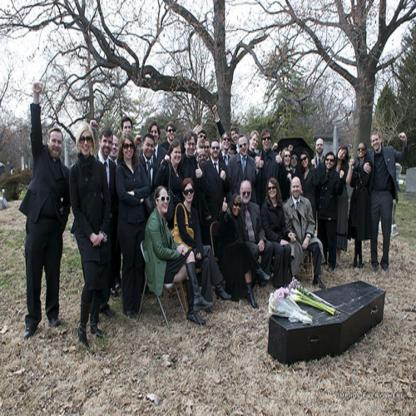face: (50, 132, 63, 156), (81, 133, 93, 155), (159, 191, 170, 214), (101, 136, 113, 157), (145, 139, 156, 158), (124, 140, 134, 159), (242, 184, 252, 203), (110, 138, 119, 158), (173, 146, 183, 164), (187, 137, 196, 156), (185, 184, 195, 201), (292, 181, 302, 198), (240, 138, 249, 156), (150, 127, 159, 144), (124, 124, 133, 140), (233, 198, 242, 214), (263, 135, 272, 150), (269, 182, 277, 198), (372, 136, 381, 150), (168, 127, 176, 141), (224, 136, 232, 150), (251, 136, 259, 150), (212, 142, 219, 157), (284, 153, 292, 166), (326, 156, 334, 169), (359, 144, 366, 158), (301, 156, 309, 168), (199, 134, 206, 147), (339, 148, 347, 159), (292, 156, 299, 168), (317, 142, 324, 154), (199, 155, 207, 165), (232, 132, 238, 145), (200, 143, 206, 155), (205, 142, 210, 154), (229, 146, 235, 155)
